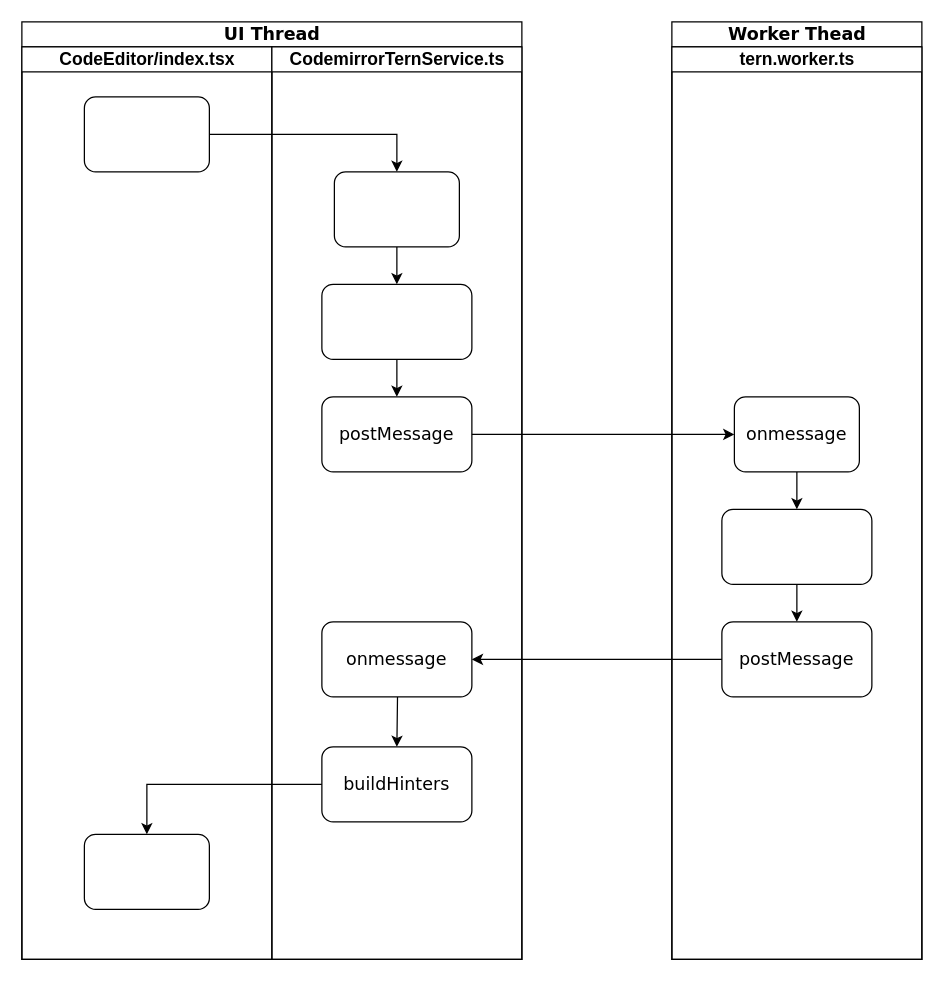
The diagram is 944 pixels wide and 981 high, and some of its shapes have lost their labels. The centre of each missing label's shape, as x and y in pixels:
"buildRequest" goes at point (396, 321).
"code change" goes at point (146, 134).
"getHint" goes at point (396, 209).
"request" goes at point (796, 546).
"showHinters" goes at point (146, 871).
